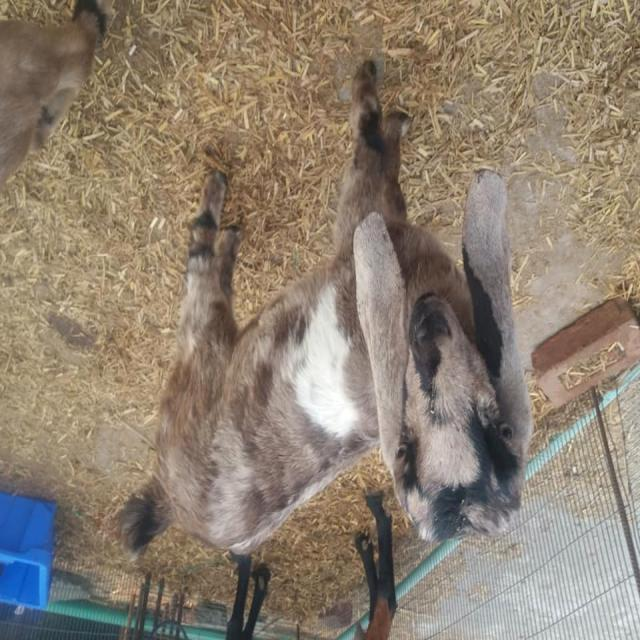Goat: (117, 61, 535, 563), (2, 2, 114, 192)
